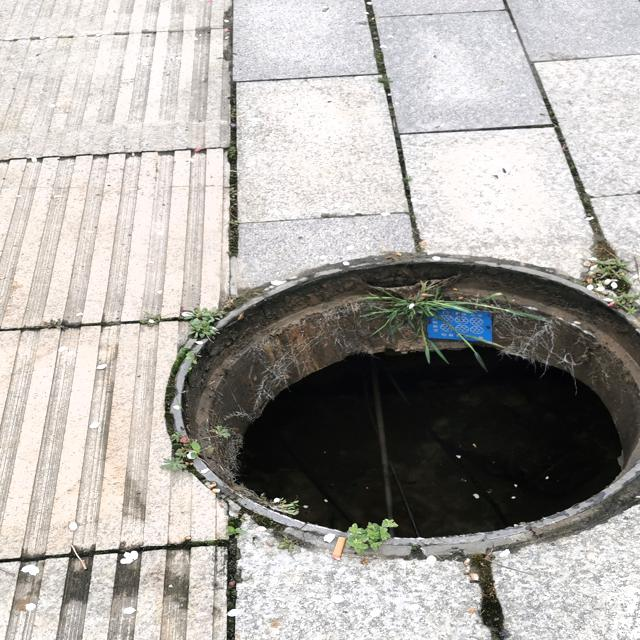lose: (168, 249, 640, 555)
